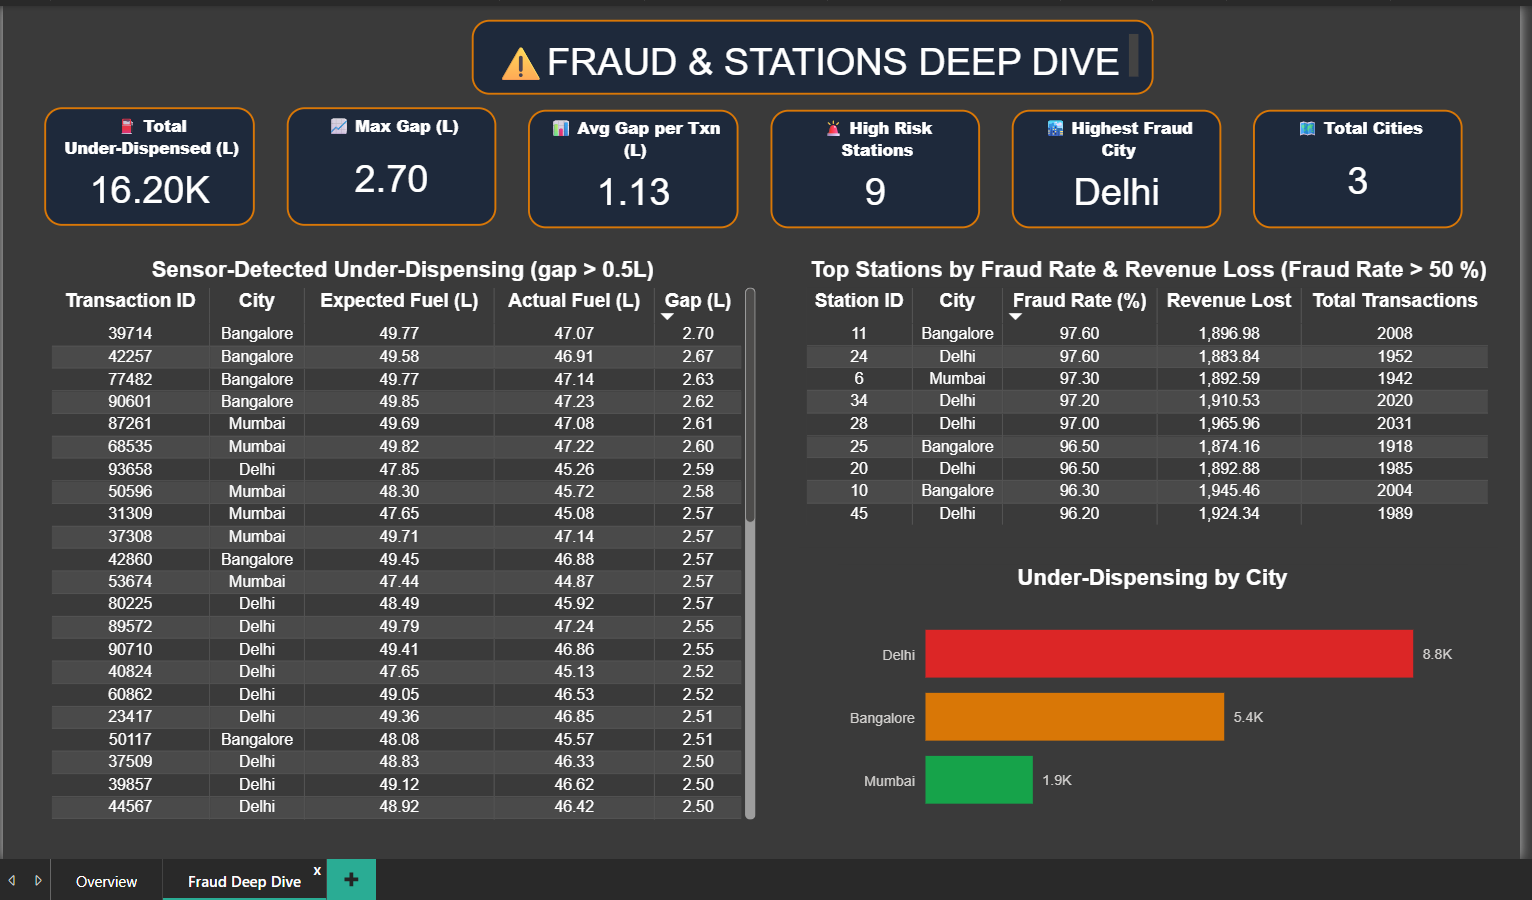

This screenshot's page, from the dashboard's own definition file:
{"tool":"powerbi","page":{"name":"Fraud Deep Dive","canvas":[1280,720],"ordinal":1},"visuals":[{"type":"tableEx","title":"Sensor-Detected Under-Dispensing (gap > 0.5L)","fields":{"Values":["sensor_fraud_mixed.transaction_id","sensor_fraud_mixed.city","Sum(sensor_fraud_mixed.expected_fuel)","Sum(sensor_fraud_mixed.actual_fuel)","Sum(sensor_fraud_mixed.gap_liters)"]},"box":[34.6,212.4,604.9,479.6],"z":0},{"type":"card","title":"⛽ Total Under-Dispensed (L)","fields":{"Values":["Sum(sensor_fraud_all.gap_liters)"]},"box":[34.6,85.9,177.8,100.2],"z":1000},{"type":"clusteredBarChart","title":"Under-Dispensing by City","fields":{"Category":["sensor_fraud_all.city"],"Y":["Sum(sensor_fraud_all.gap_liters)"]},"box":[704,471.3,530.9,230.3],"z":2000},{"type":"tableEx","title":"Top Stations by Fraud Rate & Revenue Loss (Fraud Rate > 50 %)","fields":{"Values":["stations_summary.station_id","stations_summary.city","Avg(stations_summary.fraud_rate)","Sum(stations_summary.revenue_lost)","Sum(stations_summary.total_transactions)"]},"box":[671.7,212.4,589.4,244.6],"z":3000},{"type":"card","title":"📊 Avg Gap per Txn (L)","fields":{"Values":["sensor_fraud_all.Avg Gap per Transaction"]},"box":[442.6,87.8,177.8,100.2],"z":4000},{"type":"card","title":"🚨 High Risk Stations","fields":{"Values":["stations_summary.High Risk Stations"]},"box":[647.1,87.8,177,100.2],"z":5000},{"type":"card","title":"🏙️ Highest Fraud City","fields":{"Values":["stations_summary.Highest Fraud City"]},"box":[850.9,87.8,177,100.2],"z":6000},{"type":"card","title":"🗺️ Total Cities","fields":{"Values":["stations_summary.Total Cities"]},"box":[1054.7,87.8,177,100.2],"z":7000},{"type":"textbox","box":[394.9,11.9,575.1,63.2],"z":8000},{"type":"card","title":"📈 Max Gap (L)","fields":{"Values":["sensor_fraud_all.Max Gap"]},"box":[239.2,85.9,176.6,100.2],"z":9000}]}

Visuals, with their boxes on the page's 1280x720 design canvas (x1, y1, x2, y2). These are canvas units, not pixel positions in the 1532x900 screenshot, which may show the page scaled, cropped or inside an application window:
"Sensor-Detected Under-Dispensing (gap > 0.5L)" tableEx: <region>35, 212, 640, 692</region>
"⛽ Total Under-Dispensed (L)" card: <region>35, 86, 212, 186</region>
"Under-Dispensing by City" clusteredBarChart: <region>704, 471, 1235, 702</region>
"Top Stations by Fraud Rate & Revenue Loss (Fraud Rate > 50 %)" tableEx: <region>672, 212, 1261, 457</region>
"📊 Avg Gap per Txn (L)" card: <region>443, 88, 620, 188</region>
"🚨 High Risk Stations" card: <region>647, 88, 824, 188</region>
"🏙️ Highest Fraud City" card: <region>851, 88, 1028, 188</region>
"🗺️ Total Cities" card: <region>1055, 88, 1232, 188</region>
textbox: <region>395, 12, 970, 75</region>
"📈 Max Gap (L)" card: <region>239, 86, 416, 186</region>
